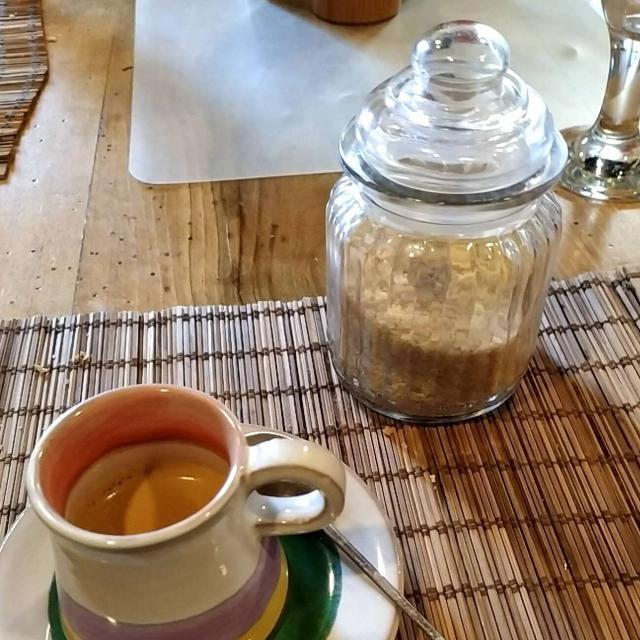coffee: (66, 446, 223, 533)
